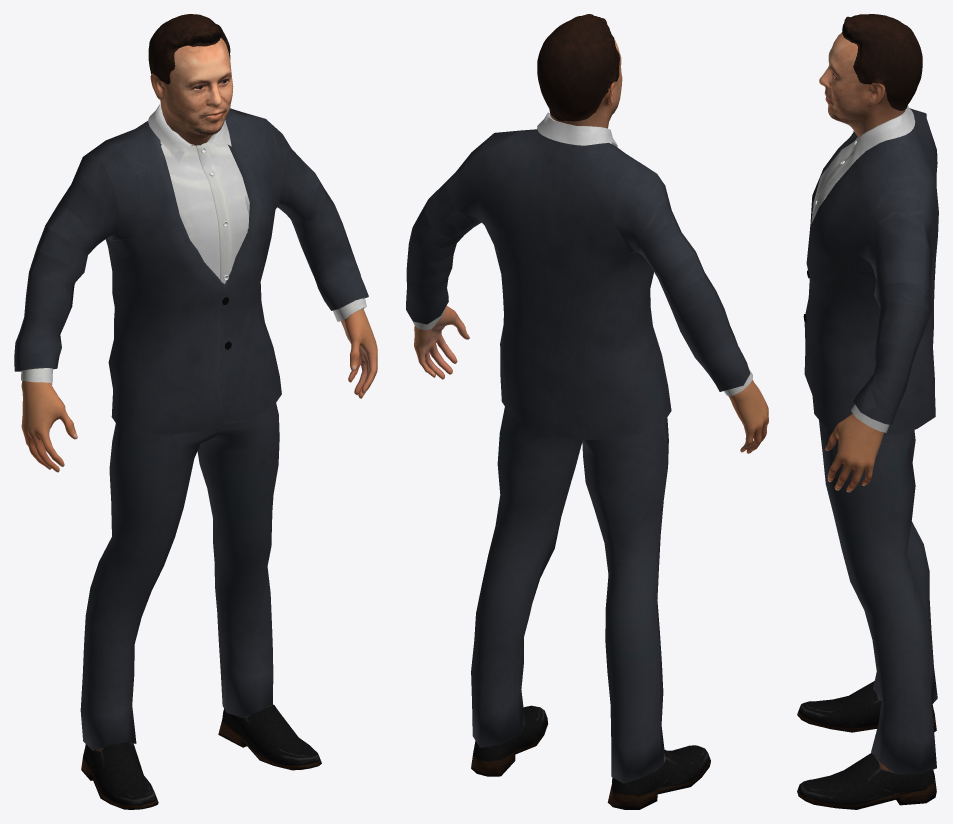
The model's file is ElonMusk.dae.
3 views of the same model, side by side, from view 1: azimuth 30°, elevation 25°; view 2: azimuth 150°, elevation 25°; view 3: azimuth 270°, elevation 25° (orthographic).
Visible parts, largest first — view 1: 6; view 2: 6; view 3: 6.
Part boxes in pixels (bbox=[...]): 6: bbox=[14, 14, 377, 809]; 6: bbox=[406, 14, 768, 809]; 6: bbox=[797, 14, 938, 809].
Bounding box in the file's own units: 1.1 × 0.3916 × 2.27.
Materials: 7 (7 with a texture image).
